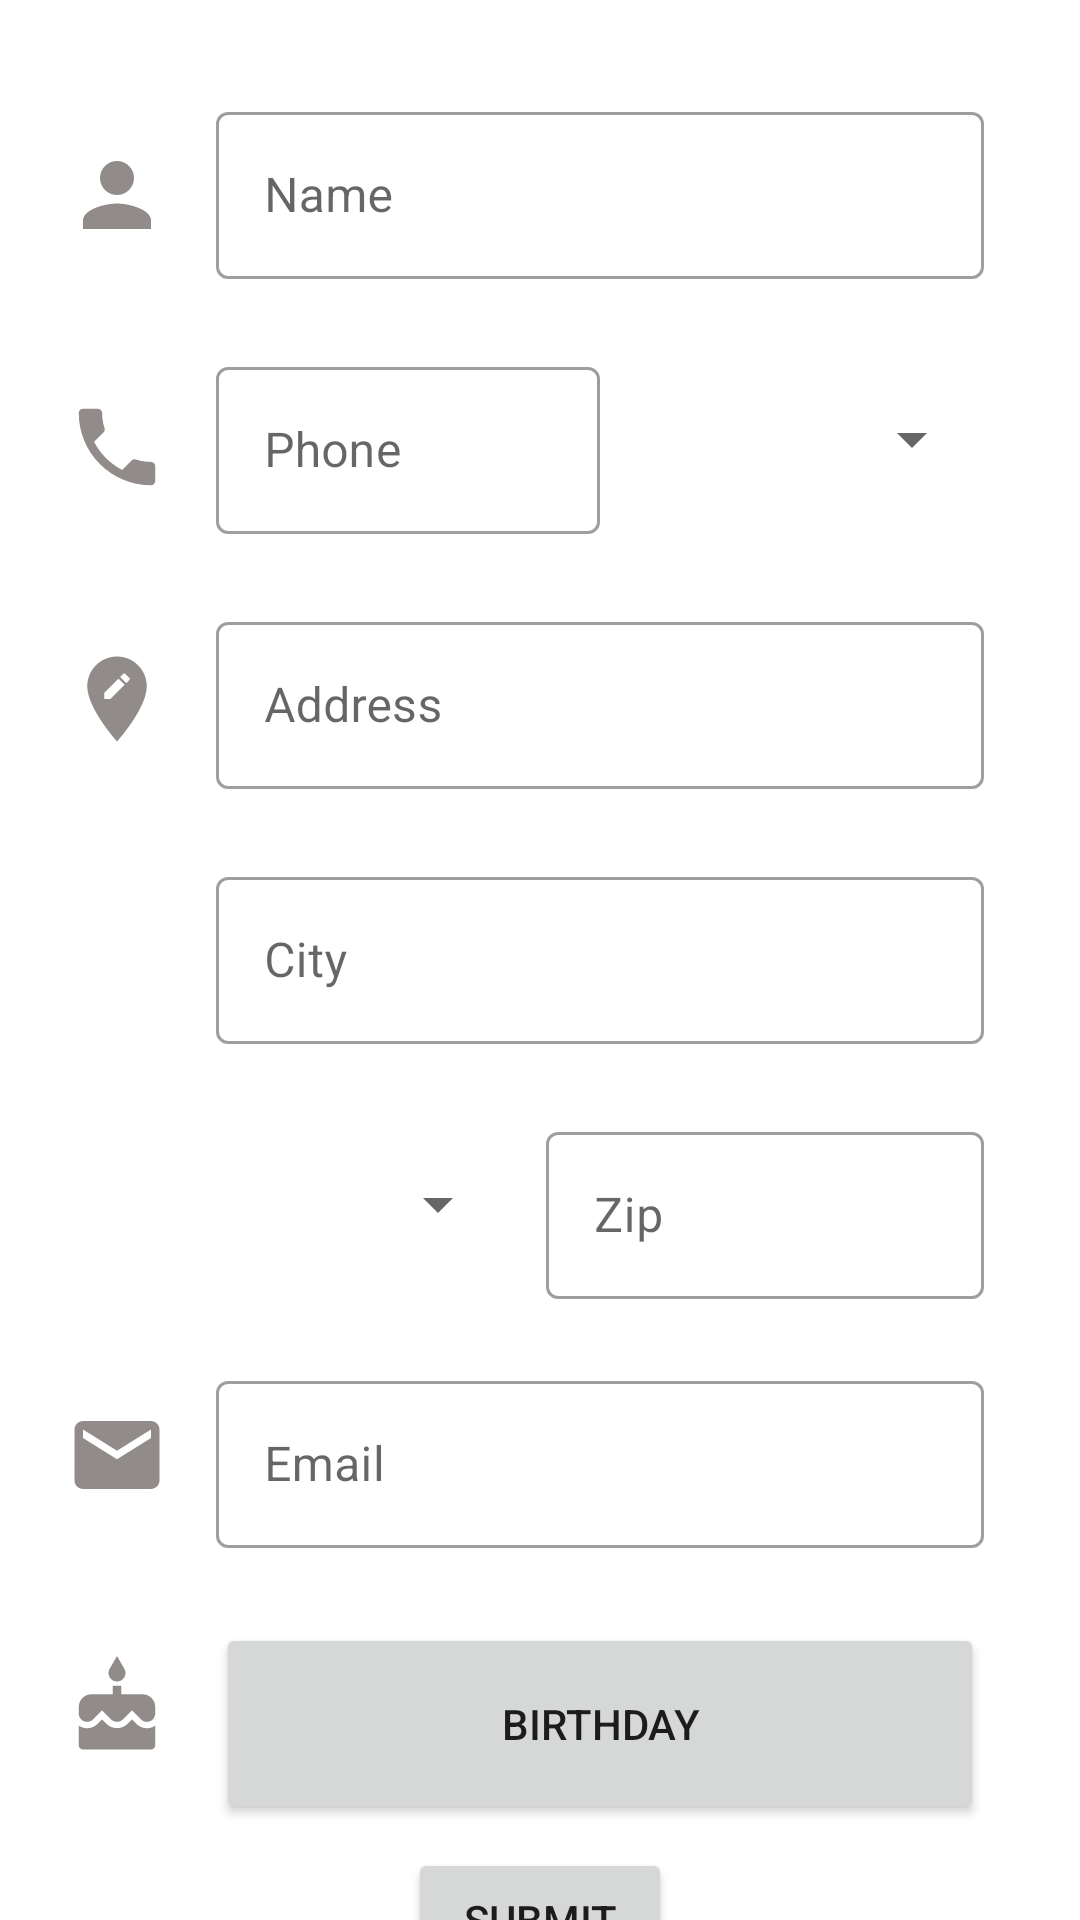

Locate icon controls on the screen. Image size 1080×1920, boxes as box=[x1, y1, x2, y2].
cake: box=[78, 1656, 156, 1750]
edit location: box=[87, 656, 147, 741]
person: box=[83, 161, 151, 229]
